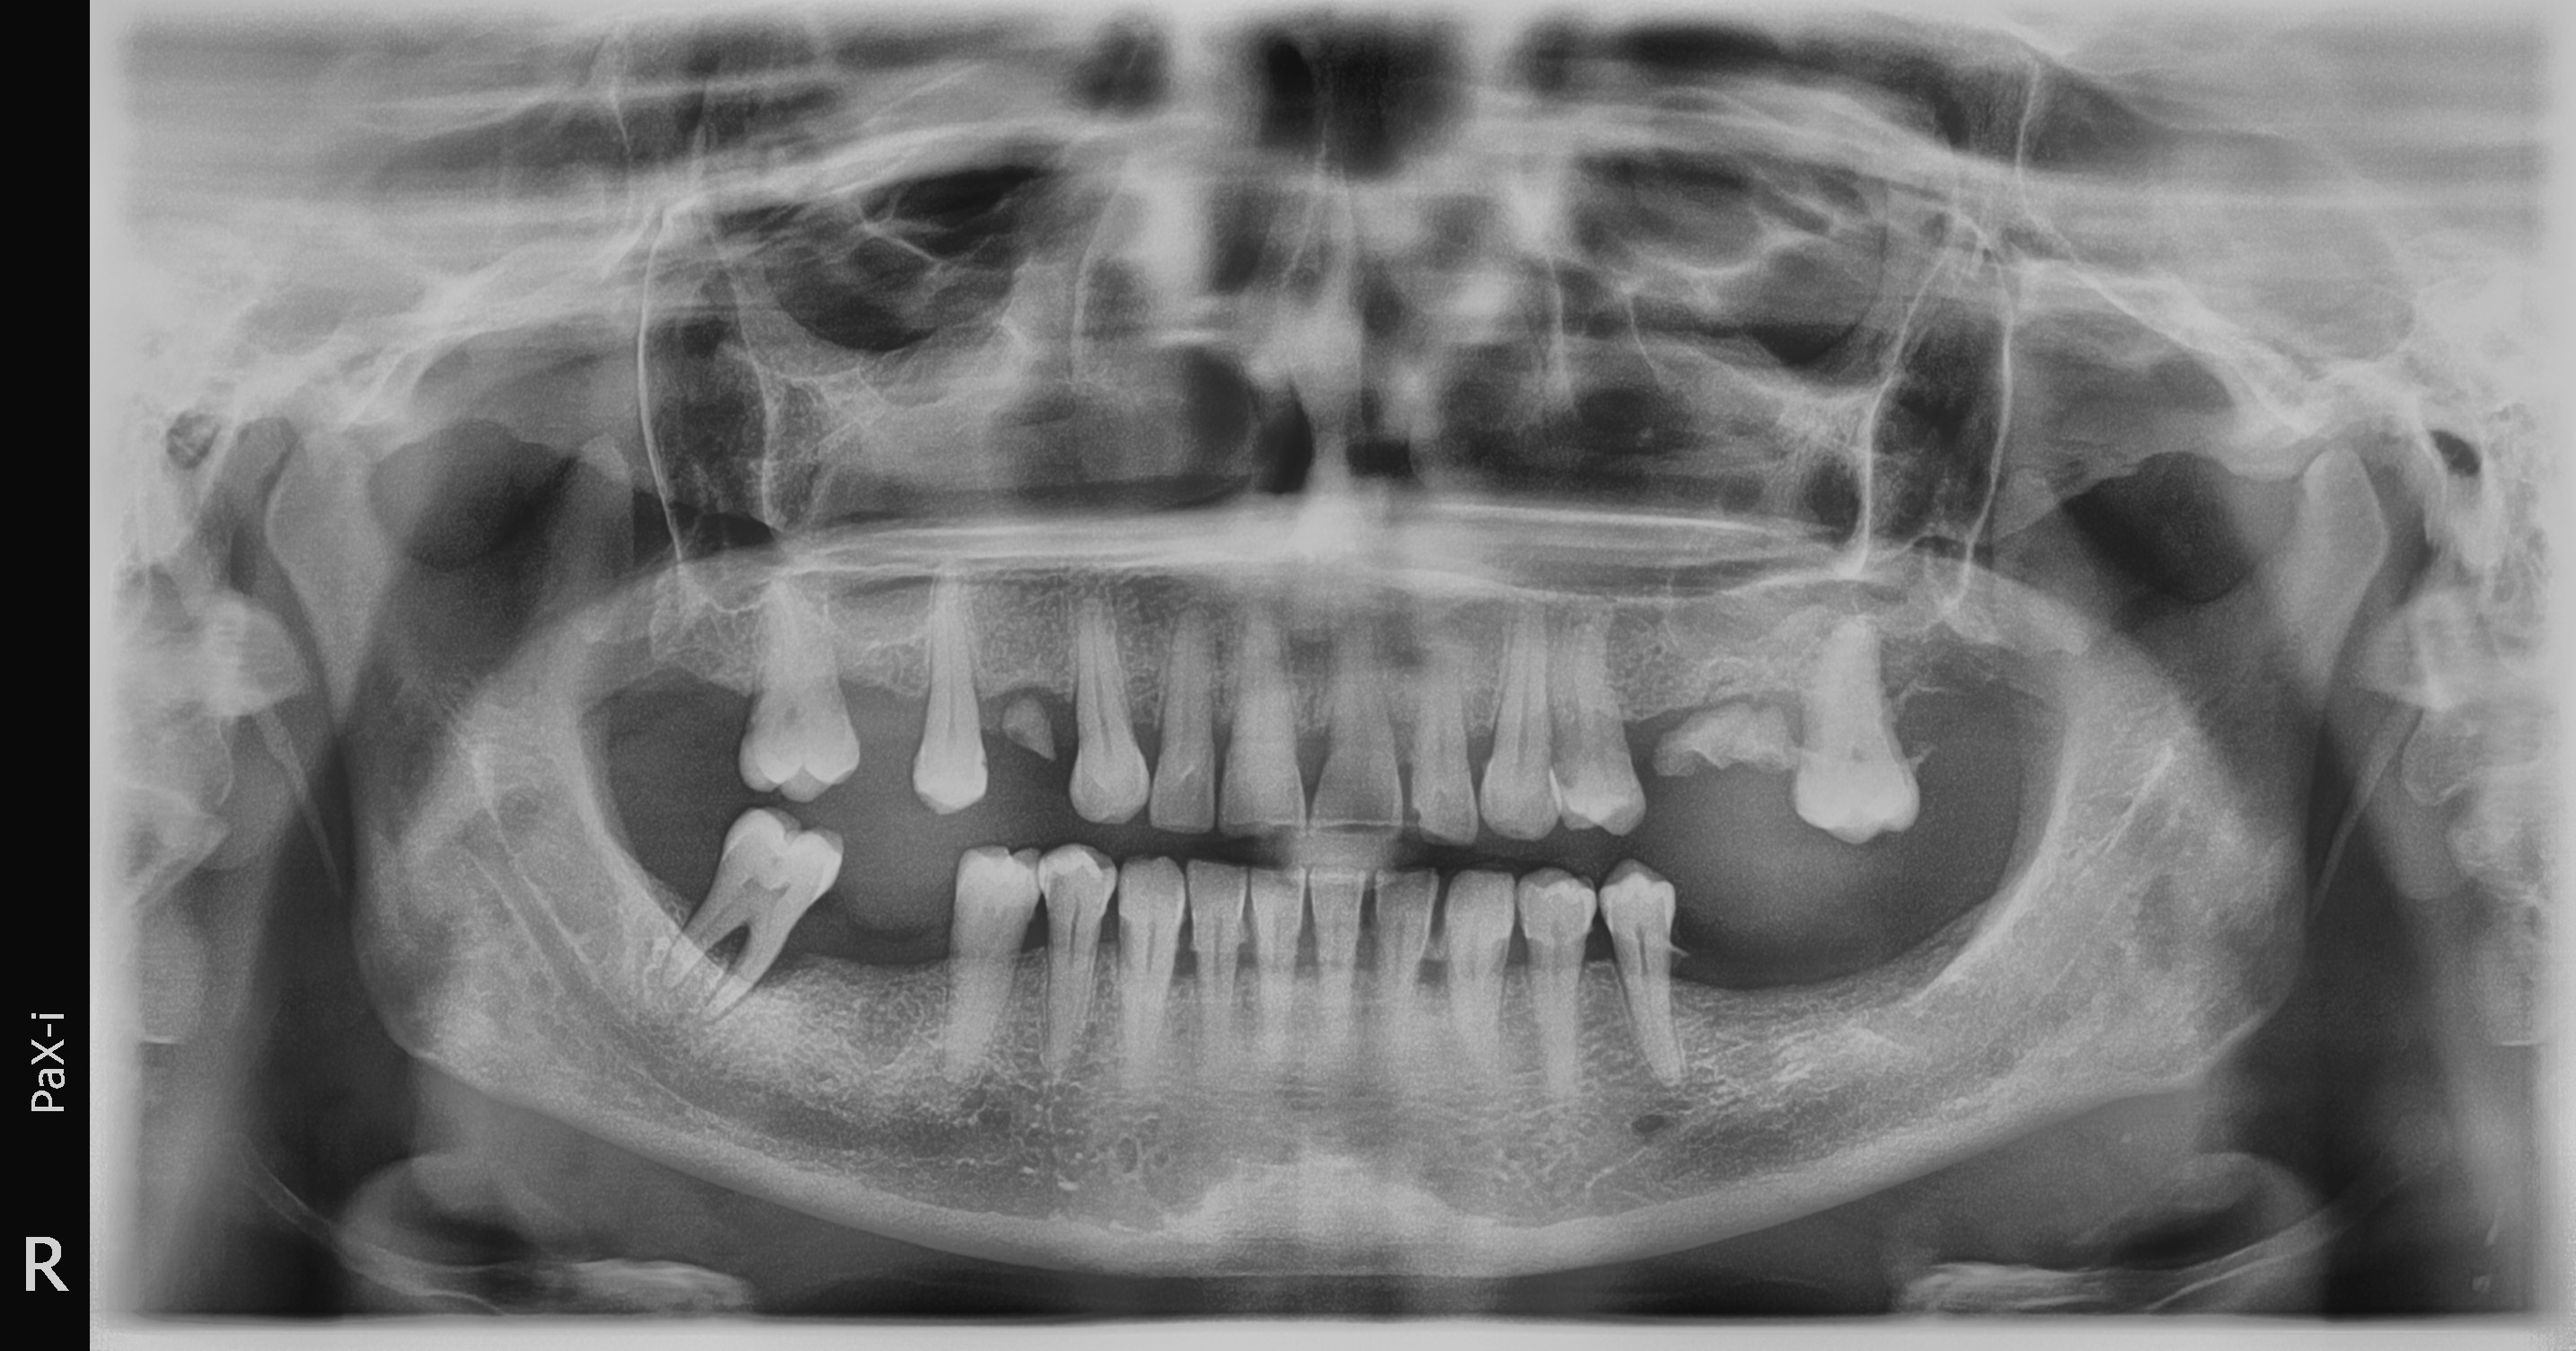BON: (1126, 690, 1162, 751), (773, 944, 809, 998), (1291, 734, 1320, 782), (1027, 905, 1051, 959), (1291, 930, 1319, 978), (1102, 901, 1123, 956), (1423, 930, 1441, 988), (1235, 923, 1254, 980), (1389, 726, 1414, 765), (1181, 920, 1196, 983), (1474, 726, 1494, 768), (1509, 937, 1532, 974), (1360, 934, 1375, 981), (1211, 729, 1228, 768), (1586, 934, 1603, 971)
CAR: (739, 707, 772, 746), (765, 847, 796, 886), (1402, 801, 1433, 835), (1044, 874, 1068, 900), (971, 748, 990, 780)
FUR: (704, 918, 745, 976)
ROT: (1647, 681, 1782, 794), (992, 680, 1060, 768)
